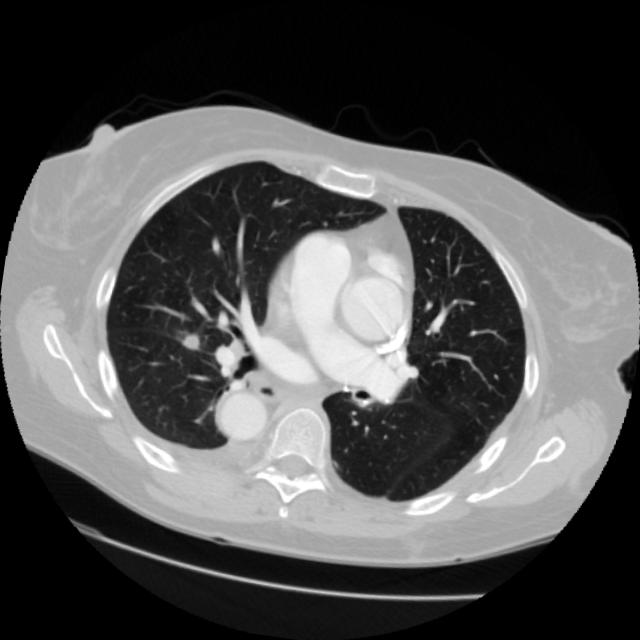nodule: (170, 320, 216, 365)
